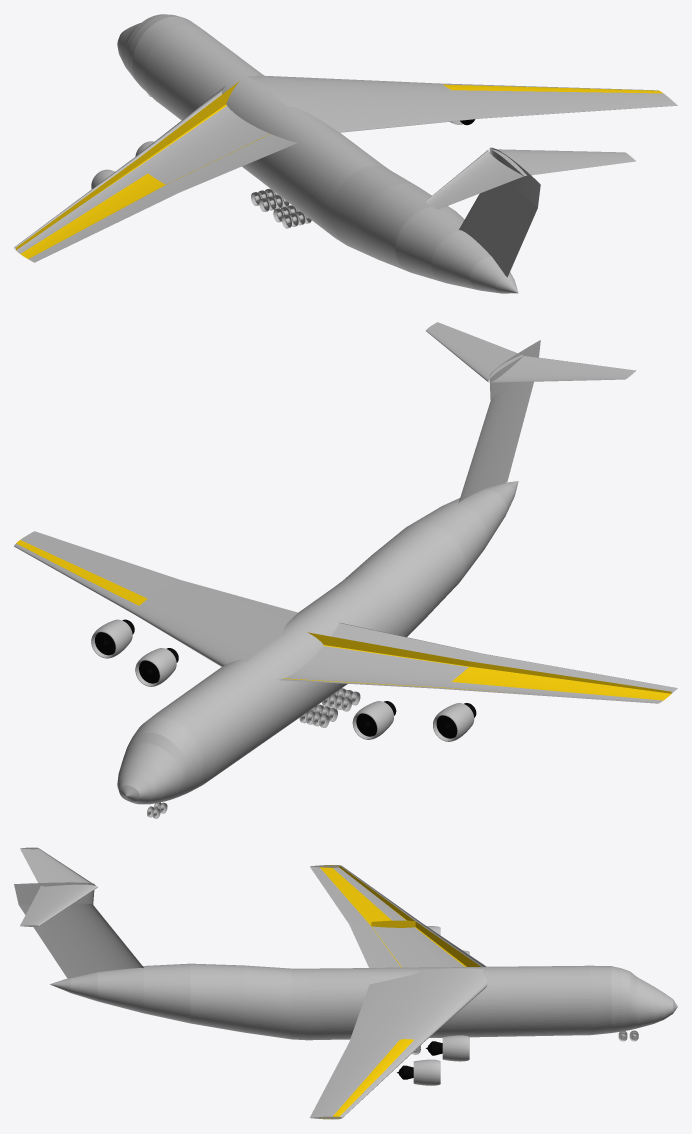
Rendered from Lockheed_C5a.gltf.
The picture shows the model from 3 angles, top to bottom: view 1: azimuth 30°, elevation 25°; view 2: azimuth 150°, elevation 25°; view 3: azimuth 270°, elevation 25°; orthographic projection. The views are drawn at different scales.
Visible parts, largest first — view 1: Renderer Node; view 2: Renderer Node; view 3: Renderer Node.
Part boxes in pixels (x1,y1,x2,y2): Renderer Node: [14, 14, 677, 293]; Renderer Node: [14, 322, 677, 818]; Renderer Node: [14, 847, 677, 1119].
Size of the model in its own units: 66.3 by 19.28 by 73.94.
